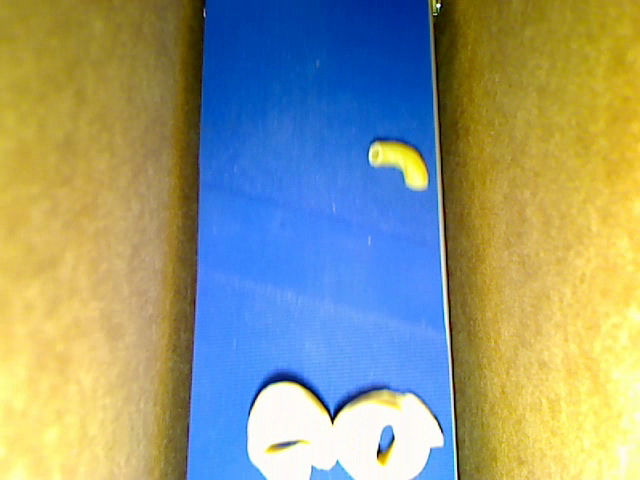elbow: (368, 140, 428, 189)
tortellini: (332, 388, 444, 479), (246, 380, 337, 479)
